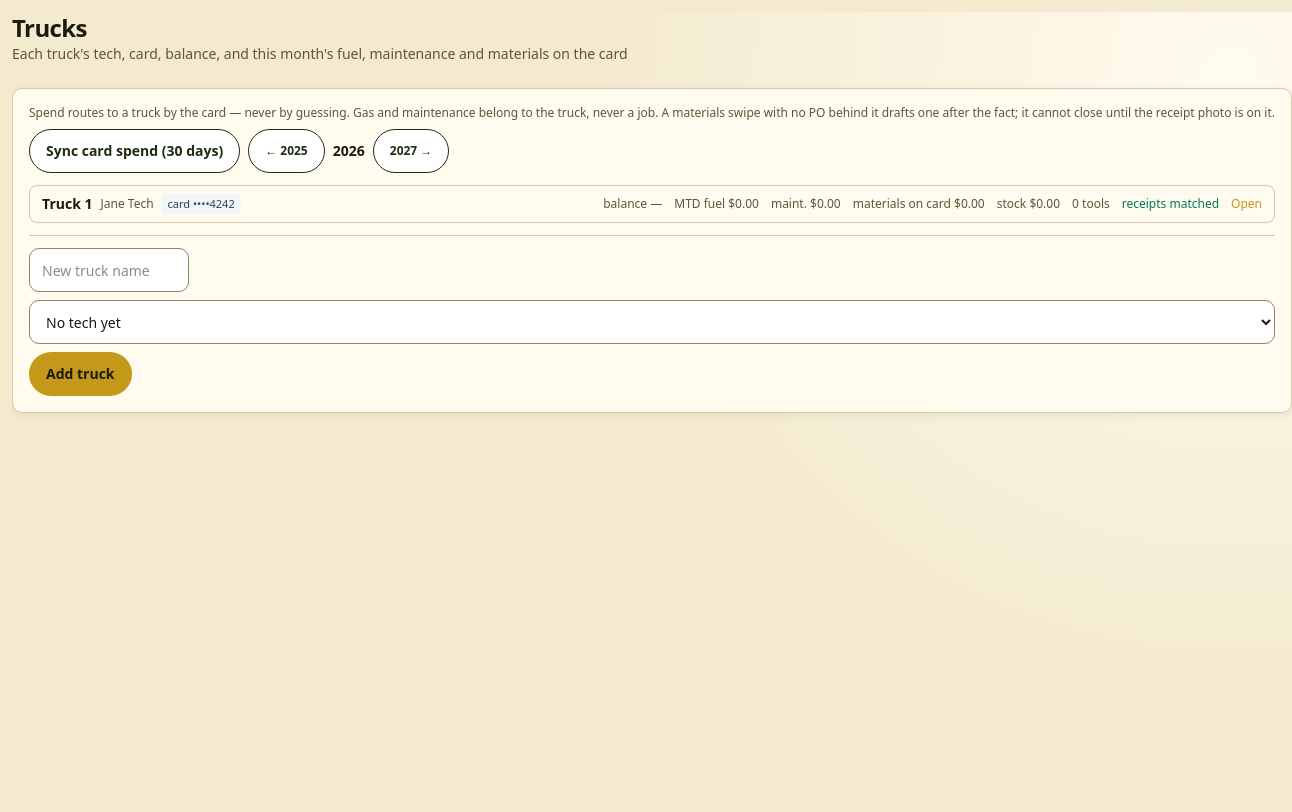
Test case: TrucksPage — Refunds not on a P.O. › renders a refund as negative money — never flipped positive for display
The image size is (1292, 812).
Click the text "Truck 1".
click(67, 204)  # box [42, 194, 92, 214]
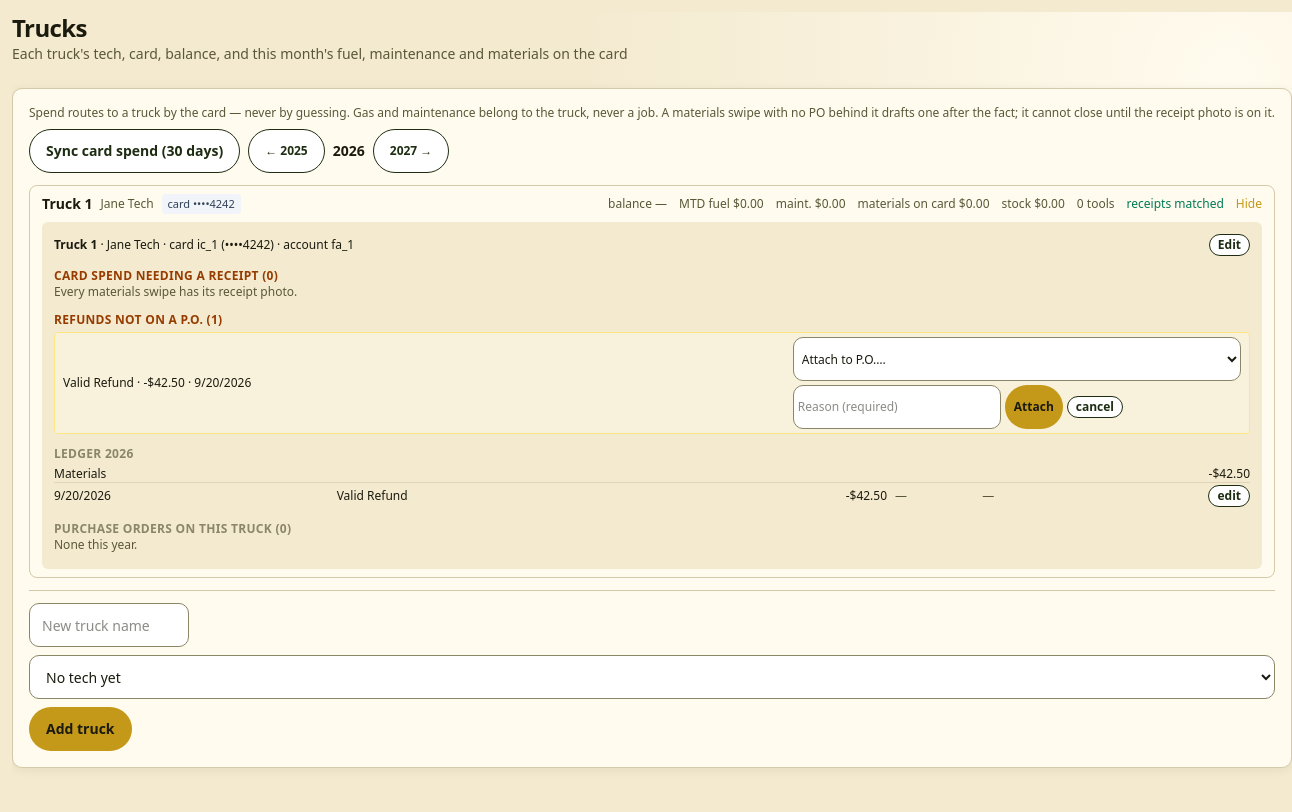
Now the text "-$42.50" below "Refunds not on a P.O. (" is shown, box [143, 374, 185, 391]
